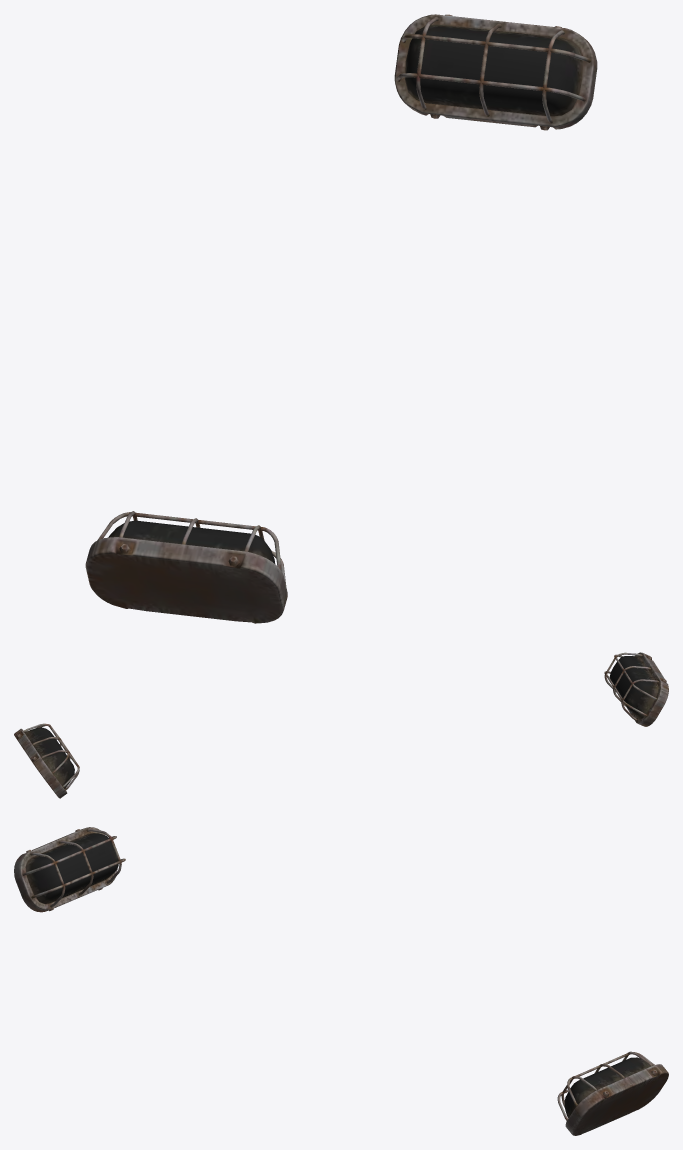
Rendered from hatch_tube_corner_left_90.glb.
3 views of the same model, one above another, from view 1: azimuth 30°, elevation 25°; view 2: azimuth 150°, elevation 25°; view 3: azimuth 270°, elevation 25° (orthographic). The views are drawn at different scales.
Visible parts, largest first — view 1: mesh (plight wall) (×2); view 2: mesh (plight wall) (×2); view 3: mesh (plight wall) (×2).
Part boxes in pixels (<box>): mesh (plight wall) (×2): <box>85,14,597,623</box>; mesh (plight wall) (×2): <box>14,652,668,798</box>; mesh (plight wall) (×2): <box>14,827,668,1135</box>.
Size of the model in its own units: 2.08 by 0.2137 by 2.12.
Materials: 1 (1 with a texture image).
